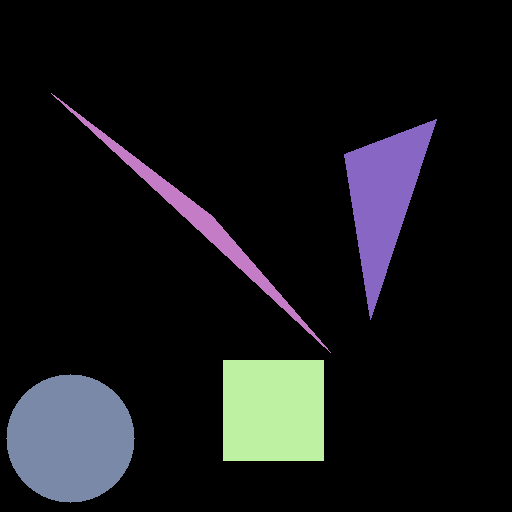circle: (6, 374, 134, 502)
square: (223, 360, 323, 460)
triangle: (51, 93, 330, 352), (344, 119, 436, 319)
